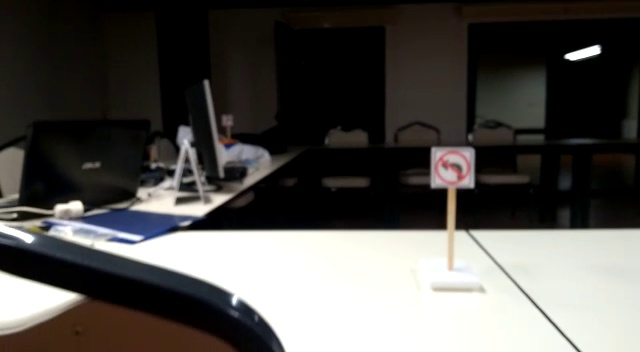sola_donulmez: (436, 146, 471, 186)
